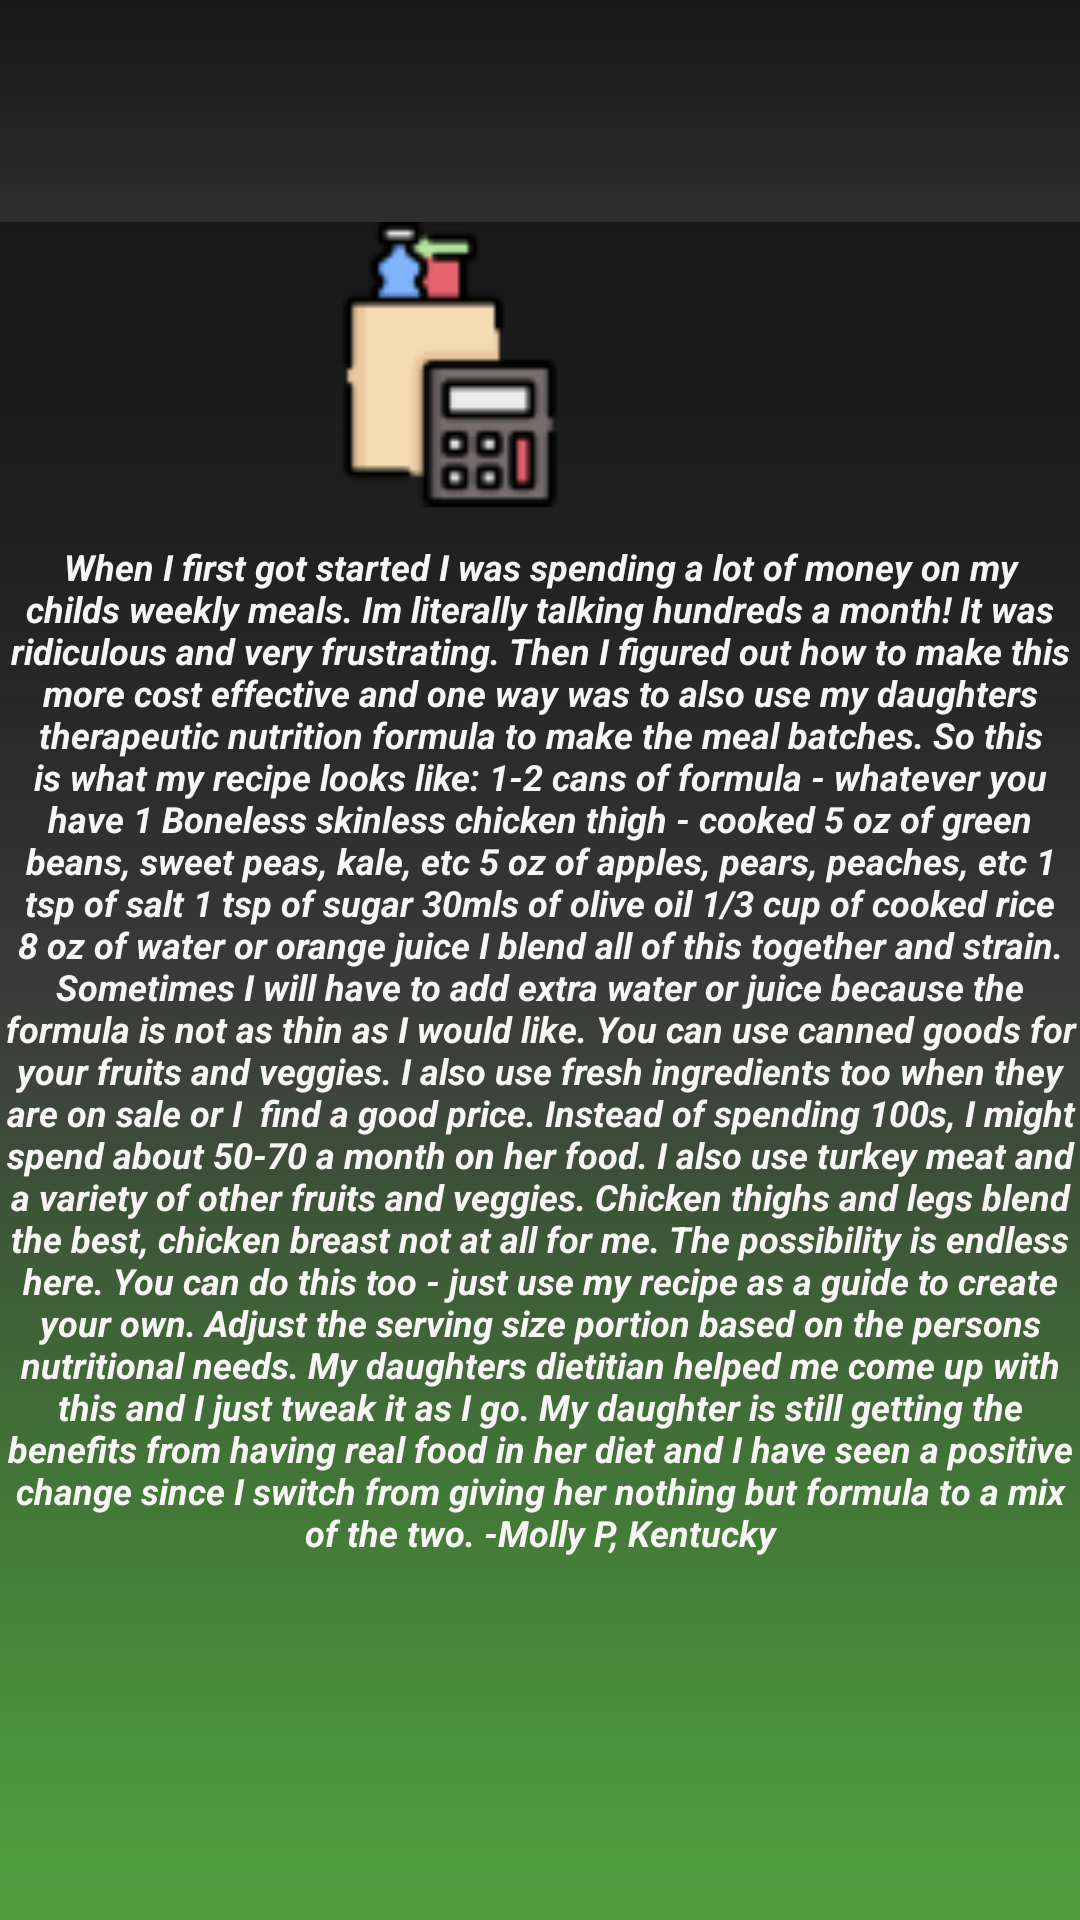

Named icons in this screenshot (1080 × 1920) and their bounding boxes, (x1, y1, x2, y2):
calculator: (346, 222, 553, 507)
